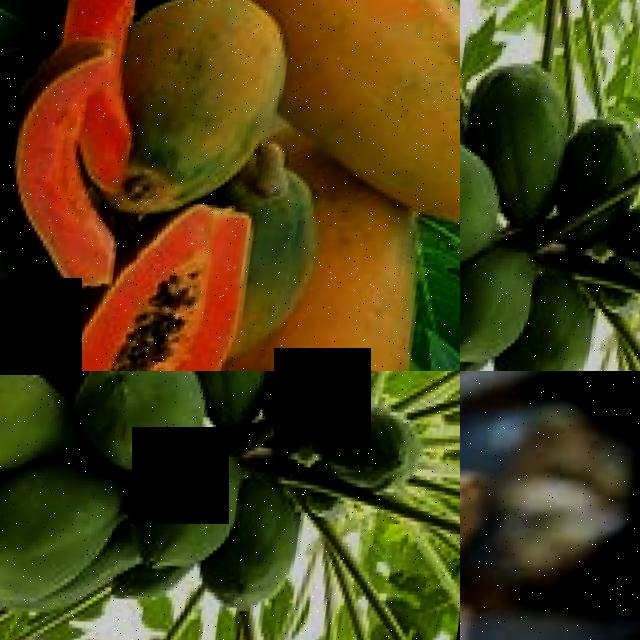pawpaw: (283, 0, 460, 251), (113, 0, 303, 199), (0, 44, 138, 295), (95, 203, 256, 371), (0, 455, 126, 625), (65, 371, 207, 489), (120, 458, 245, 590), (460, 59, 573, 199), (218, 481, 309, 628), (315, 408, 429, 513), (557, 117, 640, 230), (460, 253, 539, 371), (512, 277, 602, 371), (47, 0, 198, 54), (0, 371, 62, 490), (460, 130, 501, 285), (263, 371, 351, 434), (164, 371, 279, 403), (608, 204, 640, 309)
